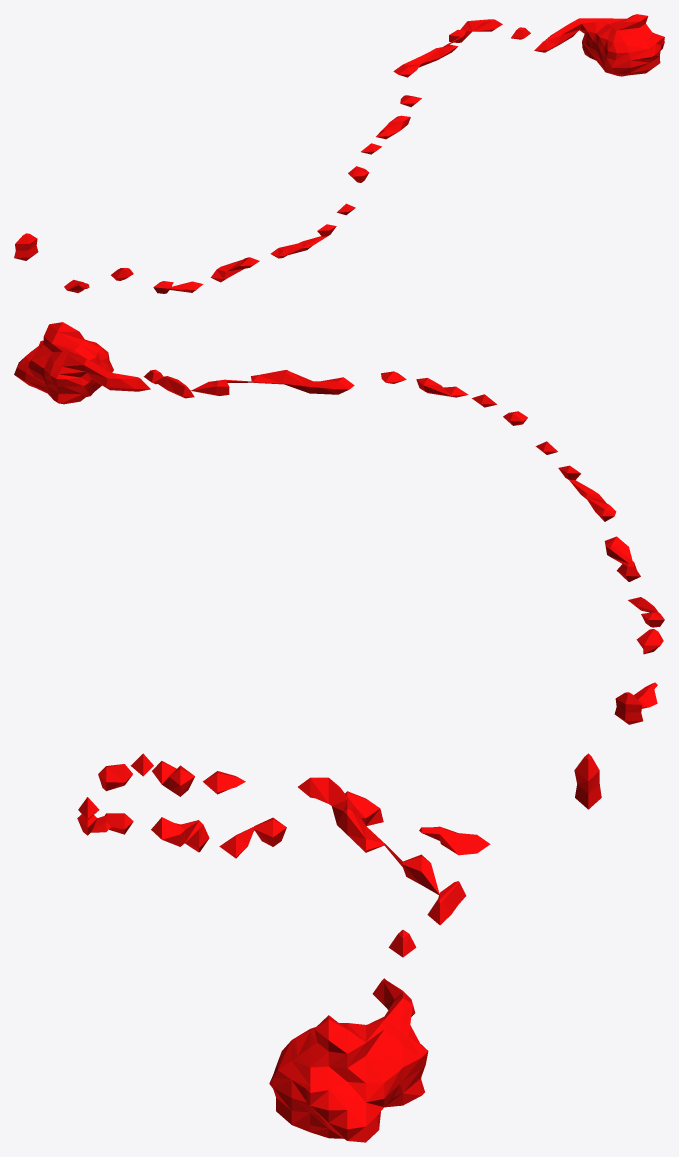
File: yejM_coarse.dae
3 views of the same model, one above another, from view 1: azimuth 30°, elevation 25°; view 2: azimuth 150°, elevation 25°; view 3: azimuth 270°, elevation 25° (orthographic). The views are drawn at different scales.
Visible parts, largest first — view 1: yejM; view 2: yejM; view 3: yejM.
Part boxes in pixels (x1,y1,x2,y2): yejM: (14, 14, 664, 293); yejM: (14, 322, 664, 724); yejM: (77, 753, 601, 1142).
Size of the model in its own units: 528 by 158 by 203.
